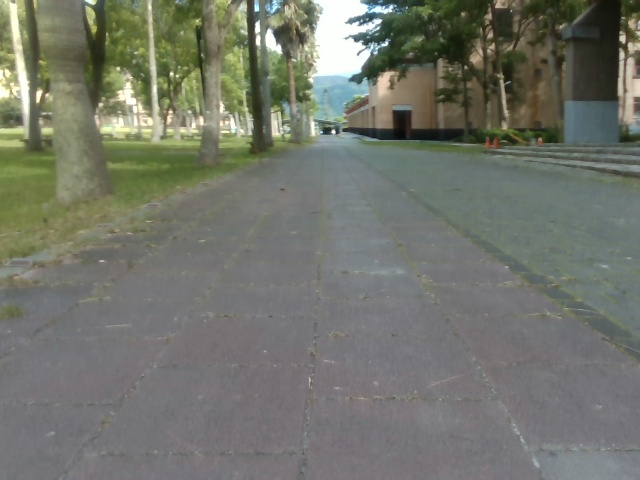grass: (0, 0, 639, 206), (0, 129, 312, 263)
road: (0, 139, 639, 479)
sidewalk: (494, 141, 639, 178)
